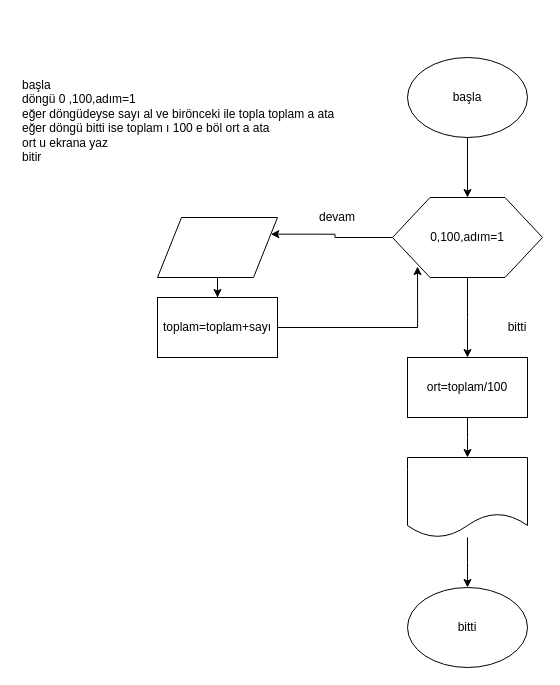
Some shapes in this 560 by 685 pixel diagram are drawn without their labels. The shapes that lost their labels are listed below. From the top down, each one's centre as x and y in pixels, then its label:
At pixel 217 247: "sayı".
At pixel 467 497: "ort".
